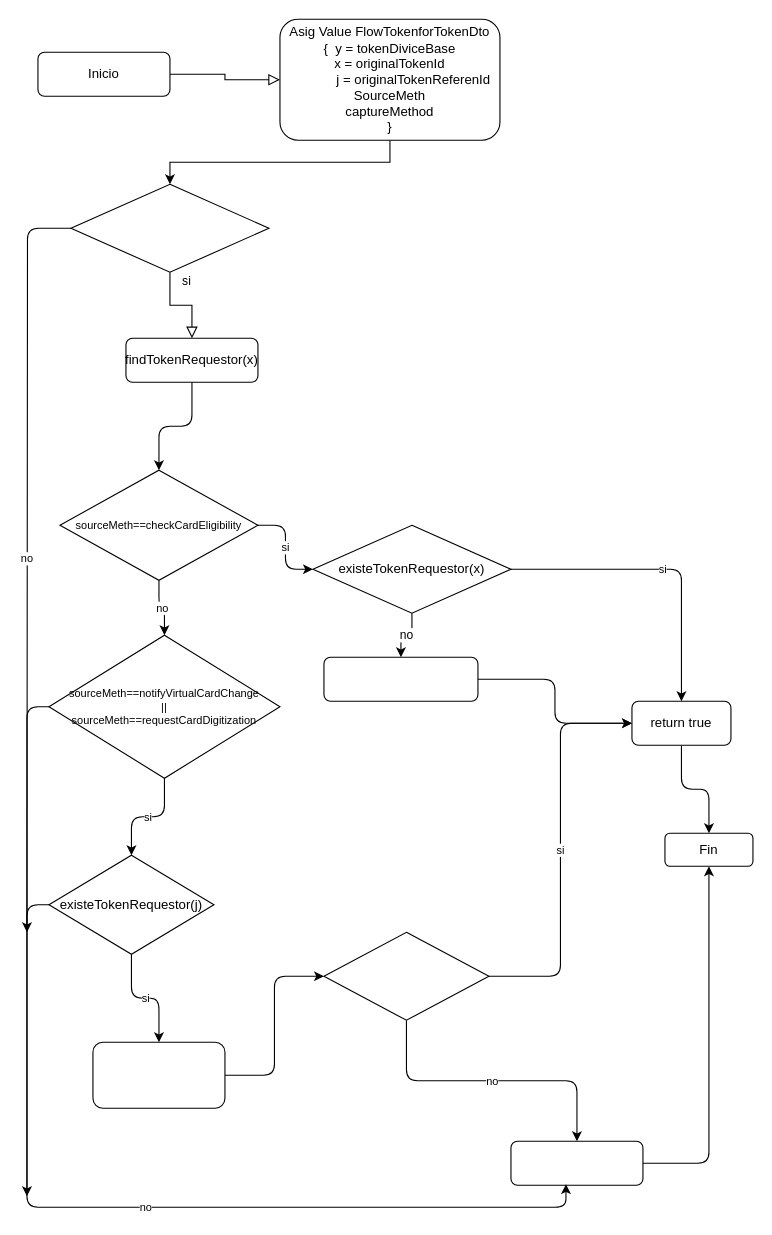
The diagram is 772 pixels wide and 1235 high, and some of its shapes have lost their labels. The shapes that lost their labels are listed below. From the top down, each one's centre as x and y in pixels, then its label:
pixel 169 227: captureMethod=='TOKEN'
pixel 400 678: saveTokenRequestor
pixel 406 975: Activo
pixel 158 1074: validaStatusToken(y,j)
pixel 576 1162: return false
